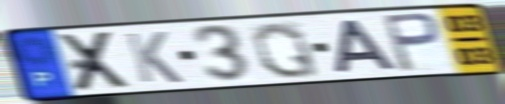3: (194, 23, 250, 85)
A: (334, 18, 401, 75)
K: (122, 30, 186, 85)
P: (379, 10, 444, 73)
Q: (249, 20, 323, 81)
X: (57, 29, 135, 94)
